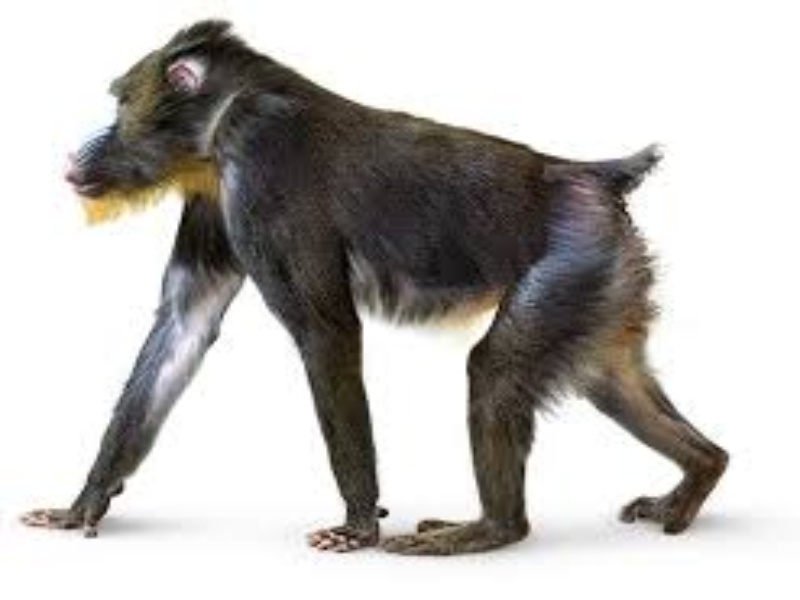monkey: (33, 18, 736, 566)
